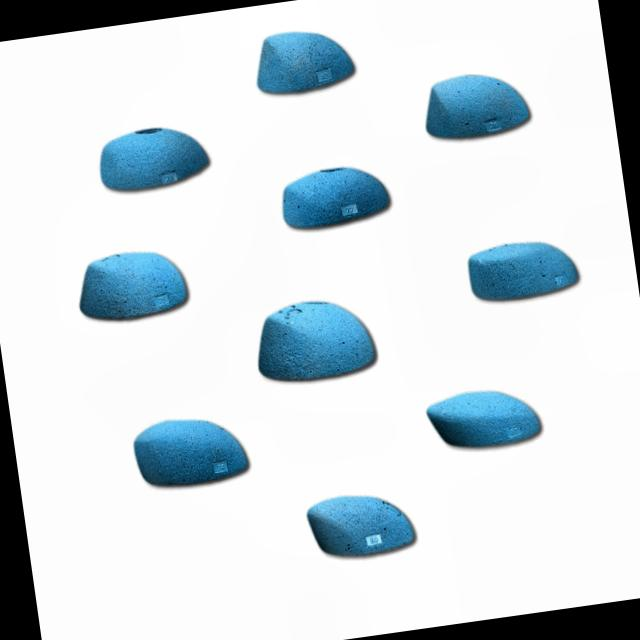Hold: (120, 409, 255, 501), (252, 294, 382, 385), (416, 378, 550, 464), (456, 234, 586, 317), (416, 60, 534, 146), (72, 244, 192, 328), (302, 484, 418, 568), (274, 156, 396, 233), (244, 23, 358, 104), (95, 122, 208, 196)
